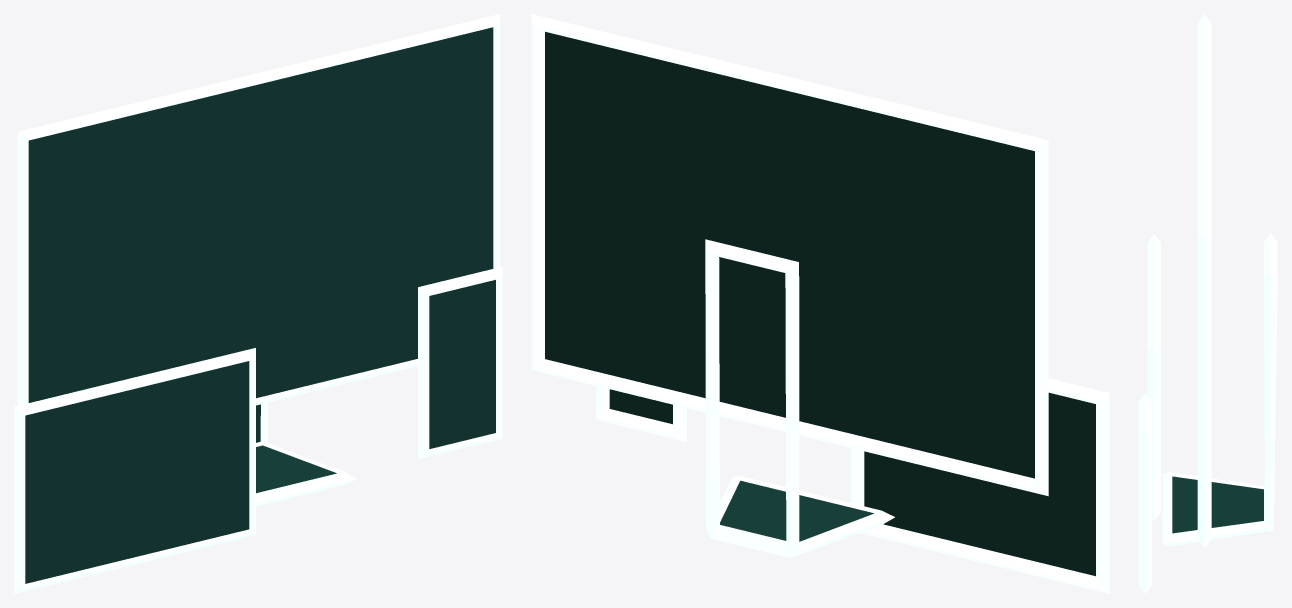
File: icon1.glb
The picture shows the model from 3 angles, left to right: view 1: azimuth 30°, elevation 25°; view 2: azimuth 150°, elevation 25°; view 3: azimuth 270°, elevation 25°; orthographic projection. The views are drawn at different scales.
Parts seen in each view (by area): view 1: model, edge; view 2: model, edge; view 3: edge, model.
Boxes of the visible parts, left/top/right/bottom form: model: left=25, top=27, right=495, bottom=583; edge: left=14, top=14, right=502, bottom=593; model: left=545, top=31, right=1095, bottom=576; edge: left=531, top=14, right=1109, bottom=593; edge: left=1138, top=14, right=1277, bottom=593; model: left=1172, top=476, right=1263, bottom=533.
Size of the model in its own units: 2.18 by 1.77 by 0.546.
